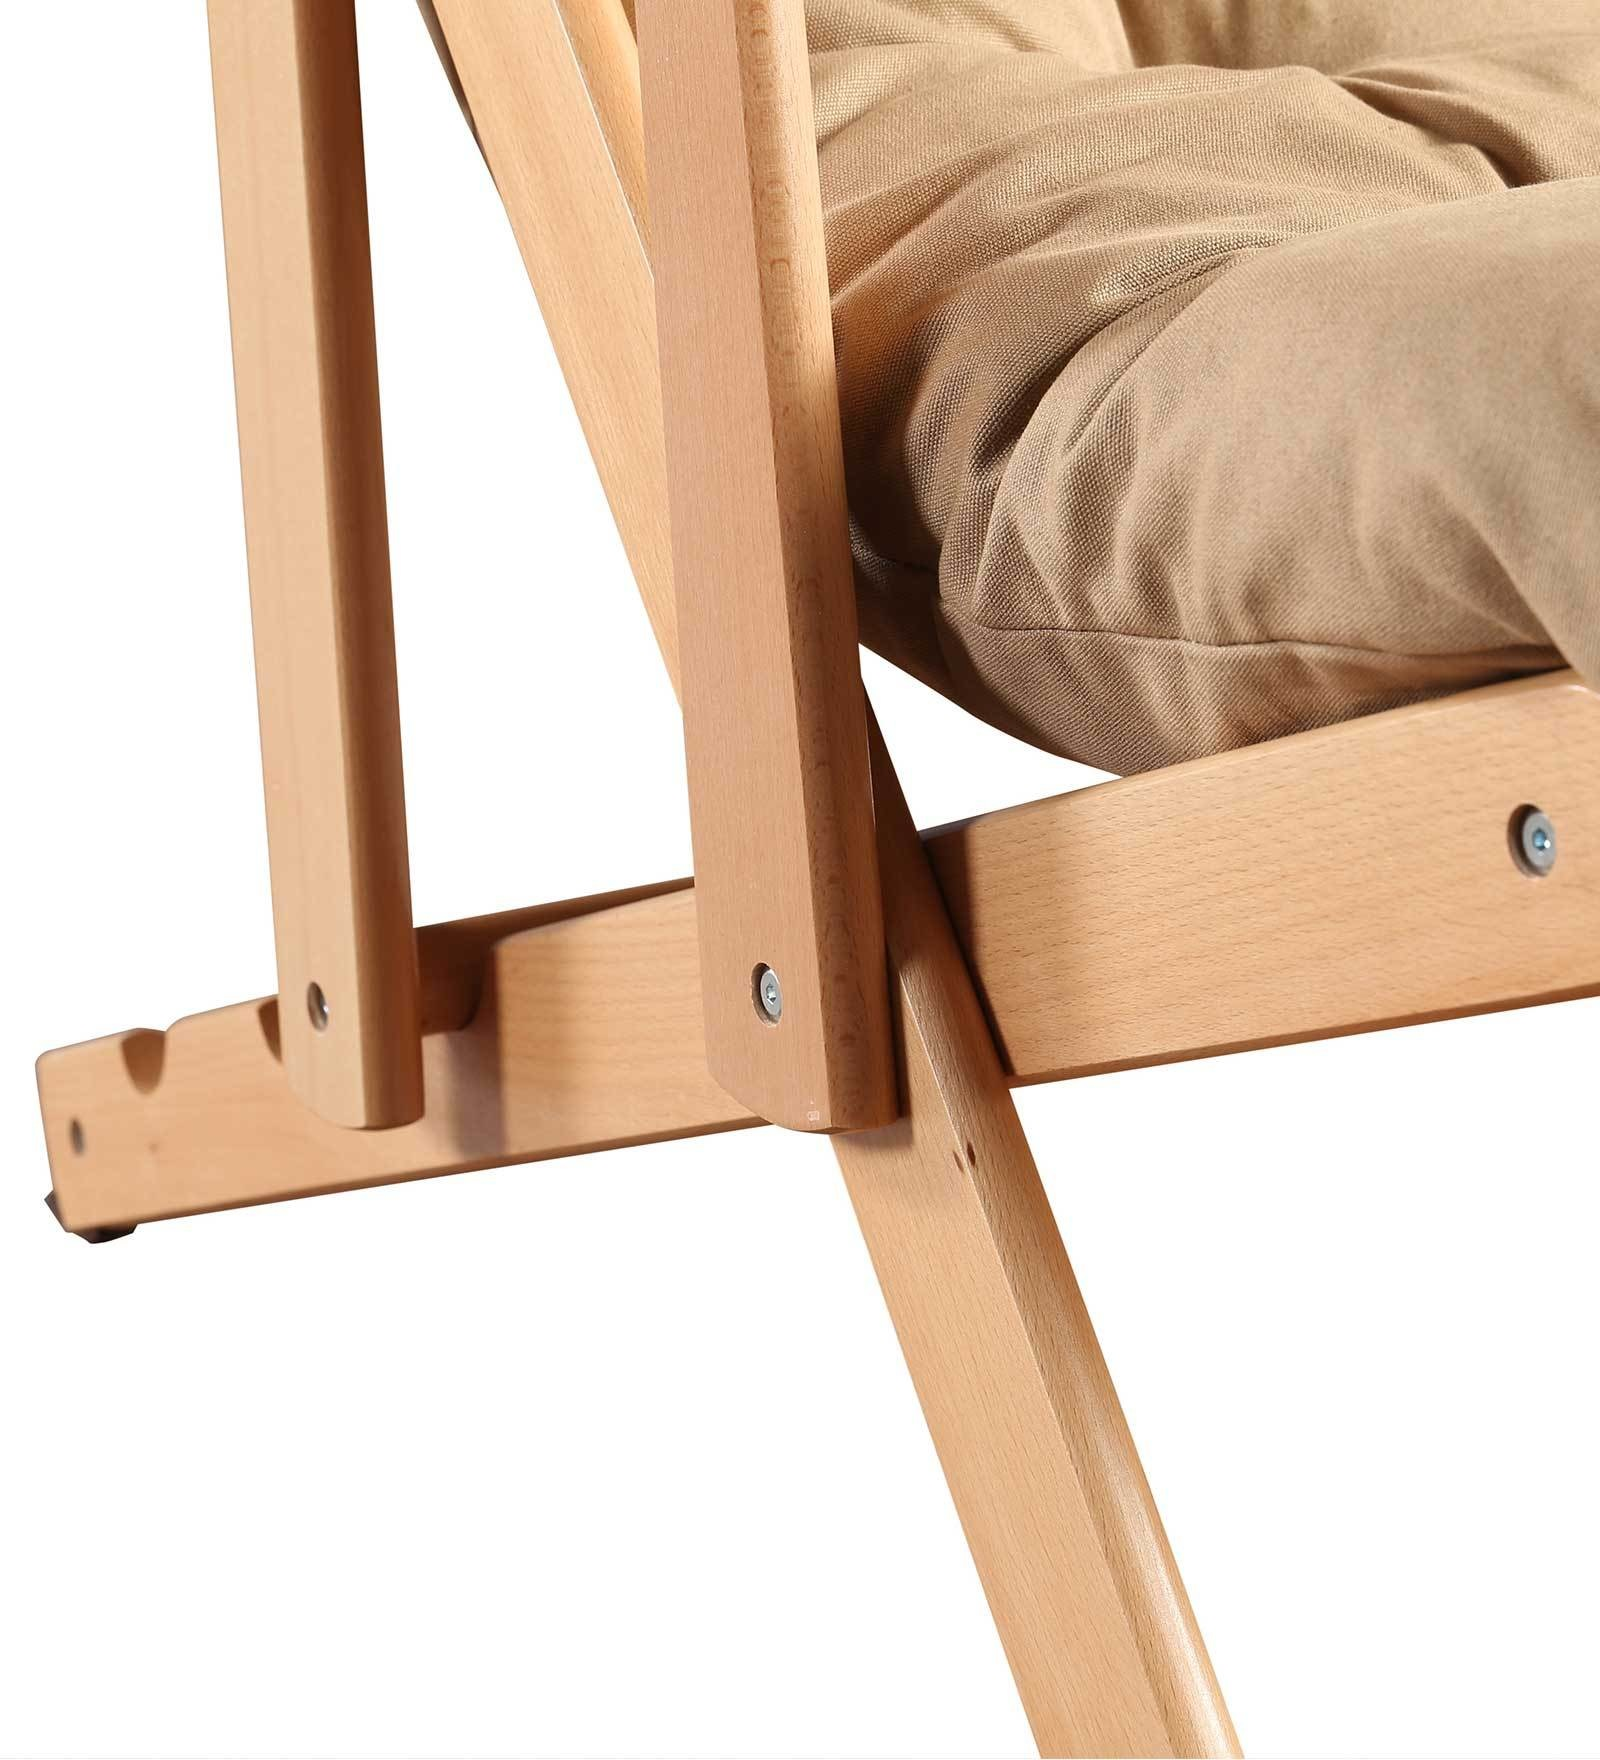Tulip Folding Chair in Beige Finish by HomeTown: (98, 12, 1562, 1760)
